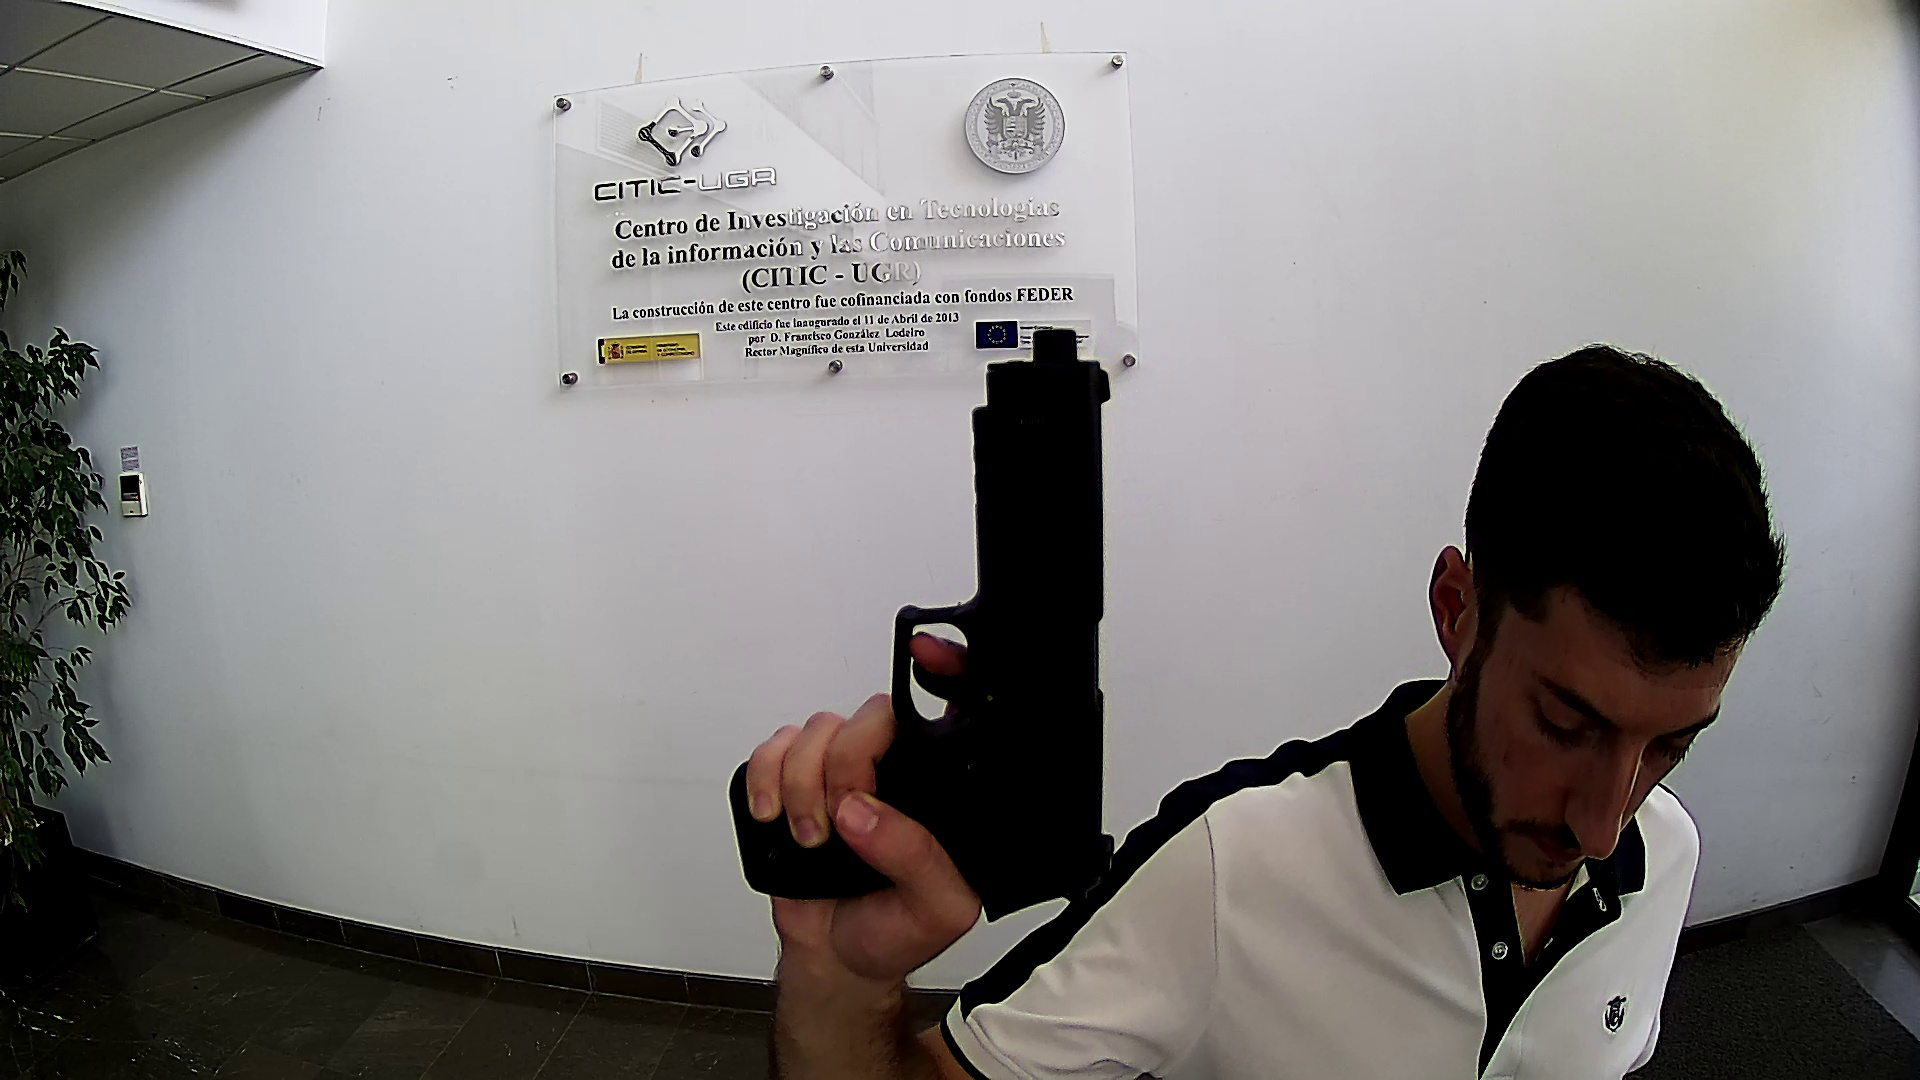pistol: (725, 326, 1116, 924)
